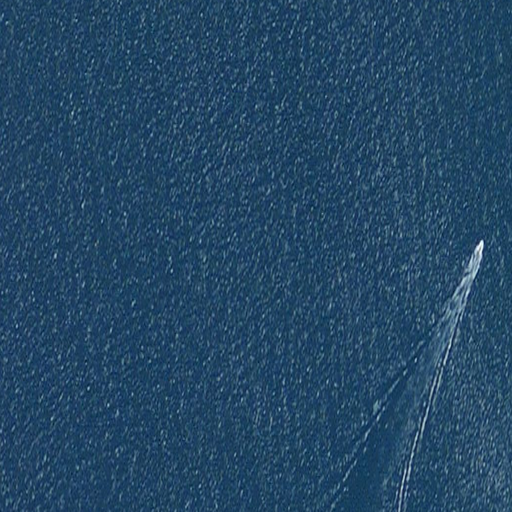ship: (470, 238, 486, 270)
